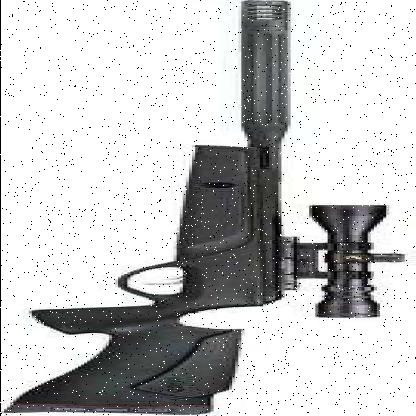rifle: (2, 0, 410, 415)
